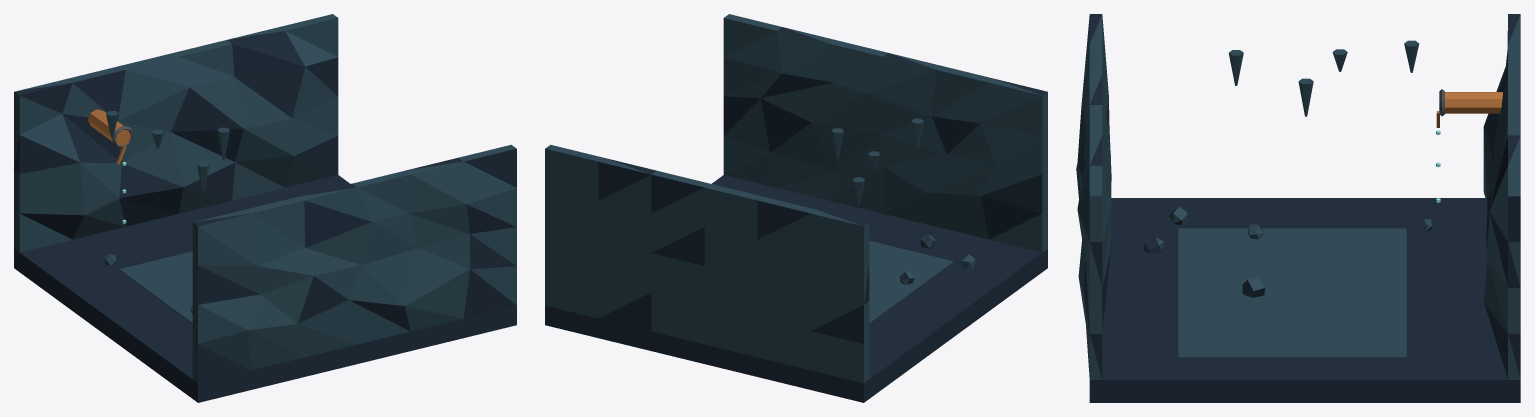
File: Kit_Dug_FloodedCaverns.fbx
3 views of the same model, side by side, from view 1: azimuth 30°, elevation 25°; view 2: azimuth 150°, elevation 25°; view 3: azimuth 270°, elevation 25° (orthographic). The views are drawn at different scales.
Visible parts, largest first — view 1: FrontWall, BackRock, Floor, DecorGlass, Decor, Pipe; view 2: BackRock, FrontWall, Floor, DecorGlass, Decor; view 3: Floor, DecorGlass, BackRock, FrontWall, Decor, Pipe.
Part boxes in pixels (x1,y1,x2,y2): FrontWall: [192, 144, 516, 383]; BackRock: [14, 14, 338, 252]; Floor: [14, 175, 516, 402]; DecorGlass: [119, 251, 192, 323]; Decor: [104, 111, 229, 313]; Pipe: [88, 109, 130, 145]; BackRock: [545, 144, 869, 383]; FrontWall: [723, 14, 1047, 252]; Floor: [545, 175, 1047, 402]; DecorGlass: [869, 241, 953, 323]; Decor: [831, 118, 975, 284]; Floor: [1089, 198, 1520, 402]; DecorGlass: [1178, 228, 1406, 357]; BackRock: [1483, 14, 1520, 379]; FrontWall: [1076, 14, 1111, 379]; Decor: [1143, 40, 1444, 297]; Pipe: [1445, 92, 1502, 113].
Bounding box in the file's own units: 34 × 18 × 35.06.
